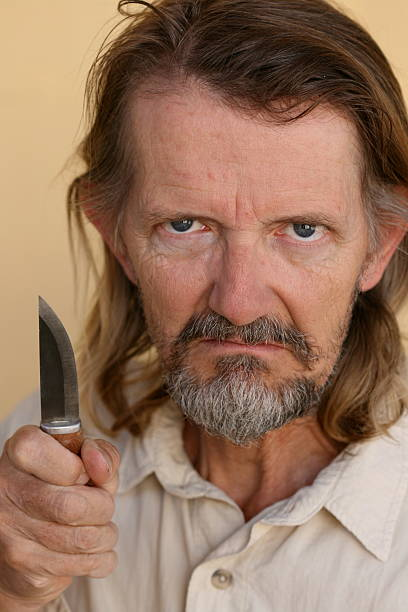knife: (35, 297, 82, 459)
